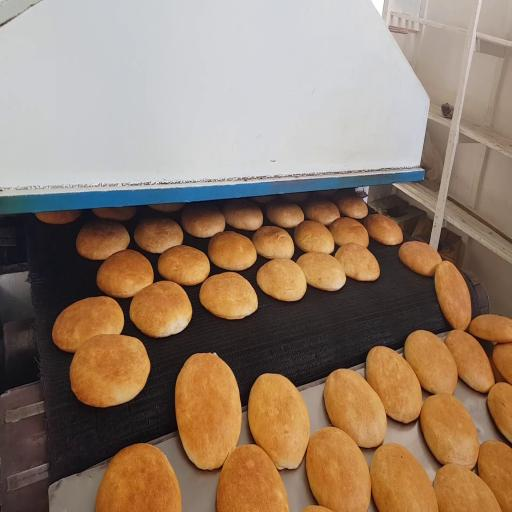bread: (175, 354, 241, 469), (248, 374, 310, 469), (70, 335, 150, 407), (96, 444, 181, 511), (306, 427, 370, 511), (324, 369, 386, 447), (217, 445, 289, 511), (370, 444, 437, 511), (420, 394, 479, 469), (366, 346, 422, 423), (52, 297, 124, 352), (130, 281, 192, 337), (404, 330, 457, 393), (434, 464, 501, 511), (446, 330, 494, 392), (97, 250, 153, 298), (200, 273, 257, 319), (435, 261, 471, 330), (478, 441, 511, 511), (76, 220, 130, 260), (257, 259, 306, 301), (158, 246, 210, 285), (208, 231, 256, 270), (297, 253, 346, 291), (134, 218, 183, 253), (335, 243, 379, 281), (399, 241, 441, 276), (487, 383, 511, 442), (252, 226, 294, 259), (182, 206, 225, 237), (294, 221, 334, 254), (479, 344, 512, 384), (469, 314, 511, 343), (223, 200, 263, 230), (364, 214, 402, 245), (330, 217, 368, 247), (267, 202, 304, 228), (304, 201, 339, 226), (337, 193, 367, 219), (36, 211, 80, 224), (93, 207, 136, 220), (149, 203, 184, 212), (281, 192, 309, 202), (251, 195, 276, 204), (315, 189, 338, 197), (303, 505, 331, 511)
